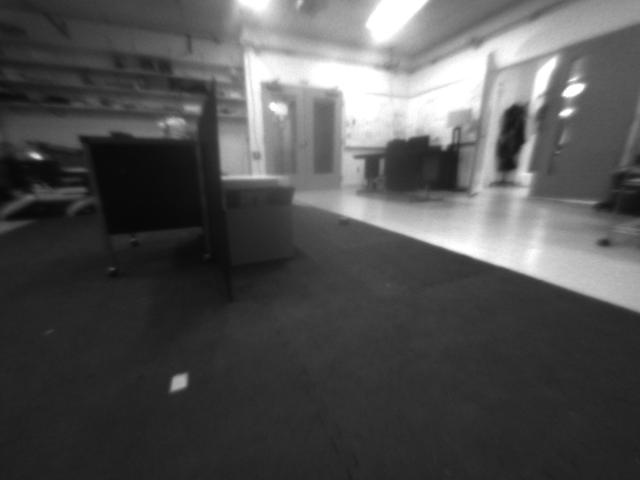dogtoy: (330, 211, 353, 230)
